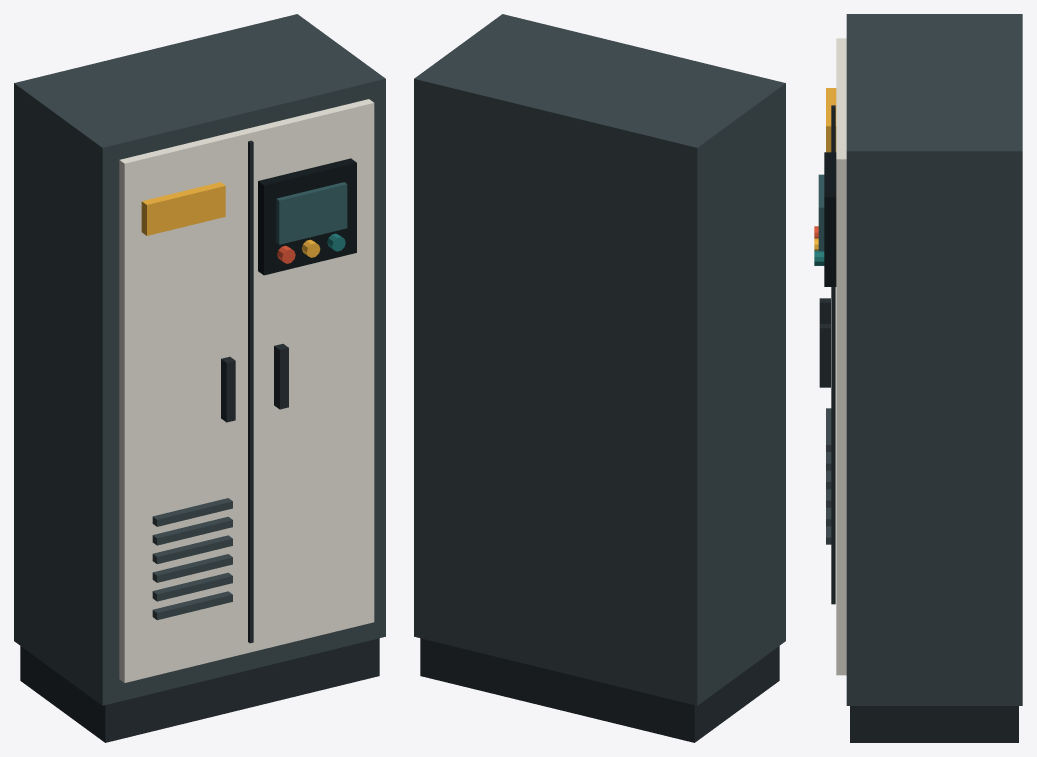
The model's file is control-cabinet.d2a4a619.glb.
3 views of the same model, side by side, from view 1: azimuth 30°, elevation 25°; view 2: azimuth 150°, elevation 25°; view 3: azimuth 270°, elevation 25° (orthographic).
Parts seen in each view (by area): view 1: control-cabinet; view 2: control-cabinet; view 3: control-cabinet.
Part boxes in pixels (left/top/right/bottom): control-cabinet: left=14, top=14, right=385, bottom=742; control-cabinet: left=414, top=14, right=785, bottom=742; control-cabinet: left=814, top=14, right=1022, bottom=742.
Bounding box in the file's own units: 0.747 × 1.5 × 0.478.
